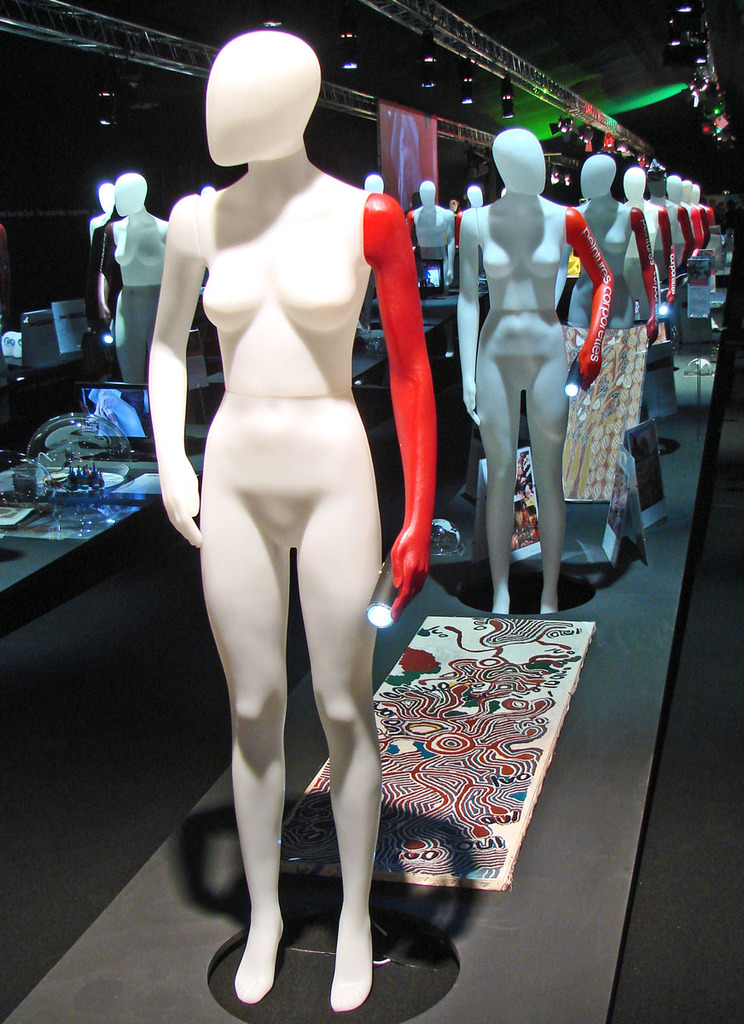person: (453, 123, 613, 616)
